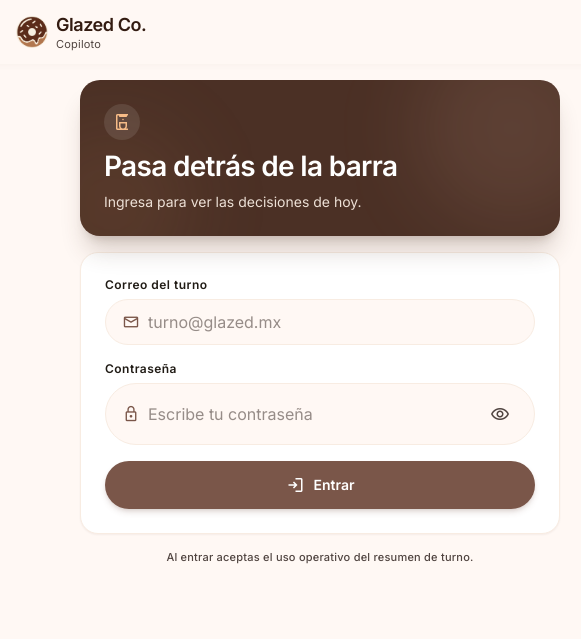
login form › 429 shows the rate-limit error
Step 1. Type "m@x.mx" into the field labelled "Correo del turno" → (333, 322), box [148,312,518,332]
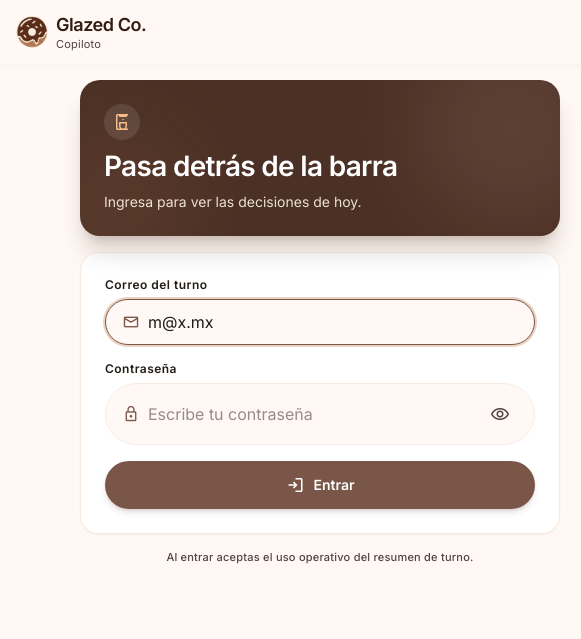
Step 2. Type "secreto" into the password field labelled "Contraseña" → (311, 414), box [148,404,474,424]
Then press Enter
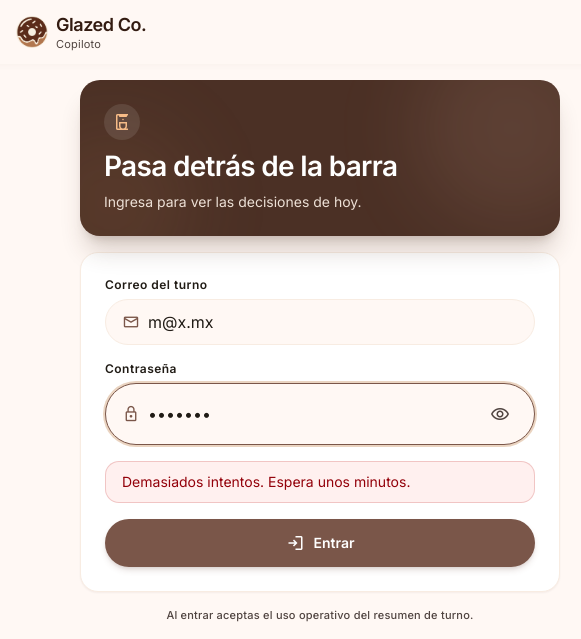
Expected: the message reads "Demasiados intentos. Espera unos minutos.", [122,473,410,490]
